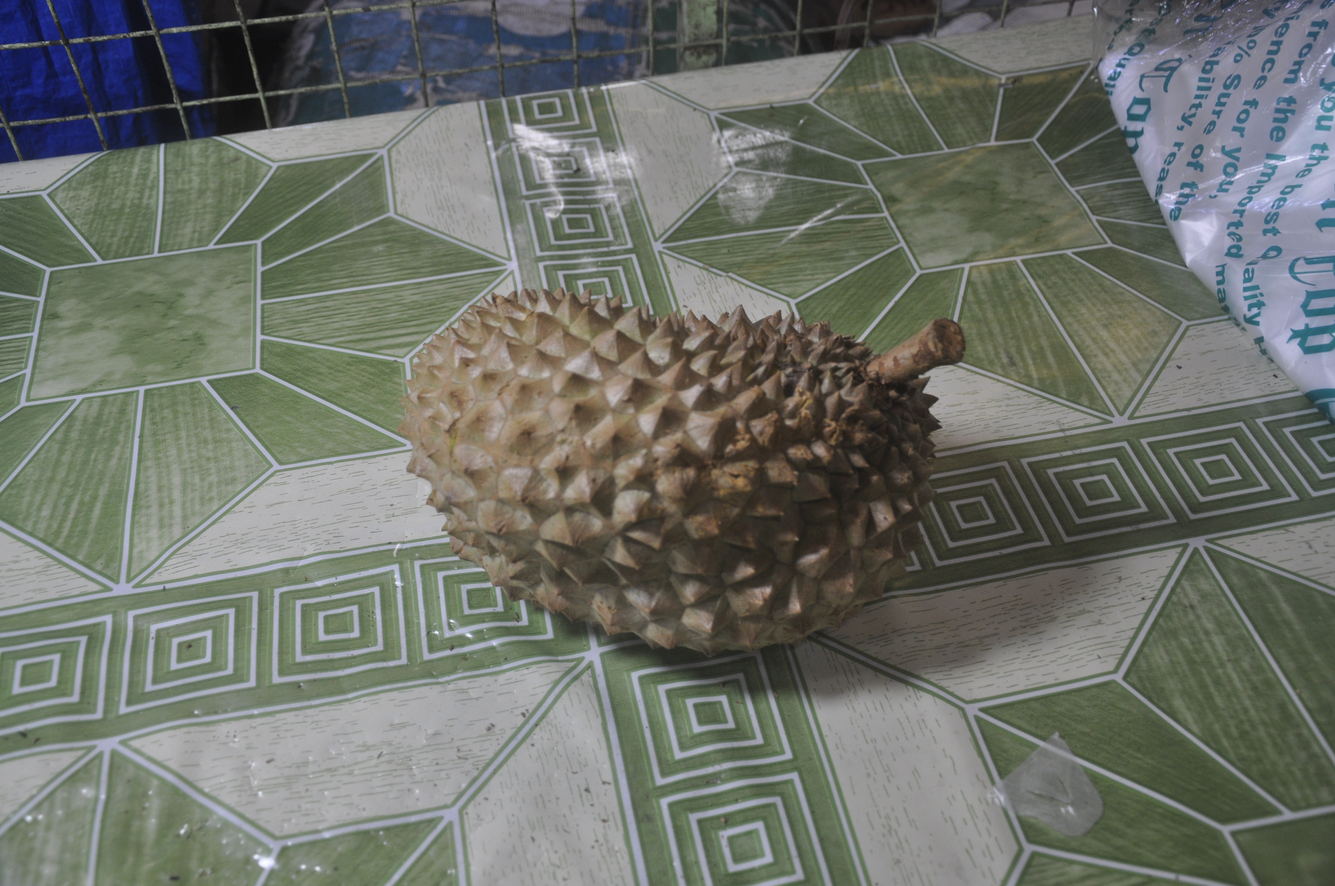mature: (399, 290, 964, 654)
